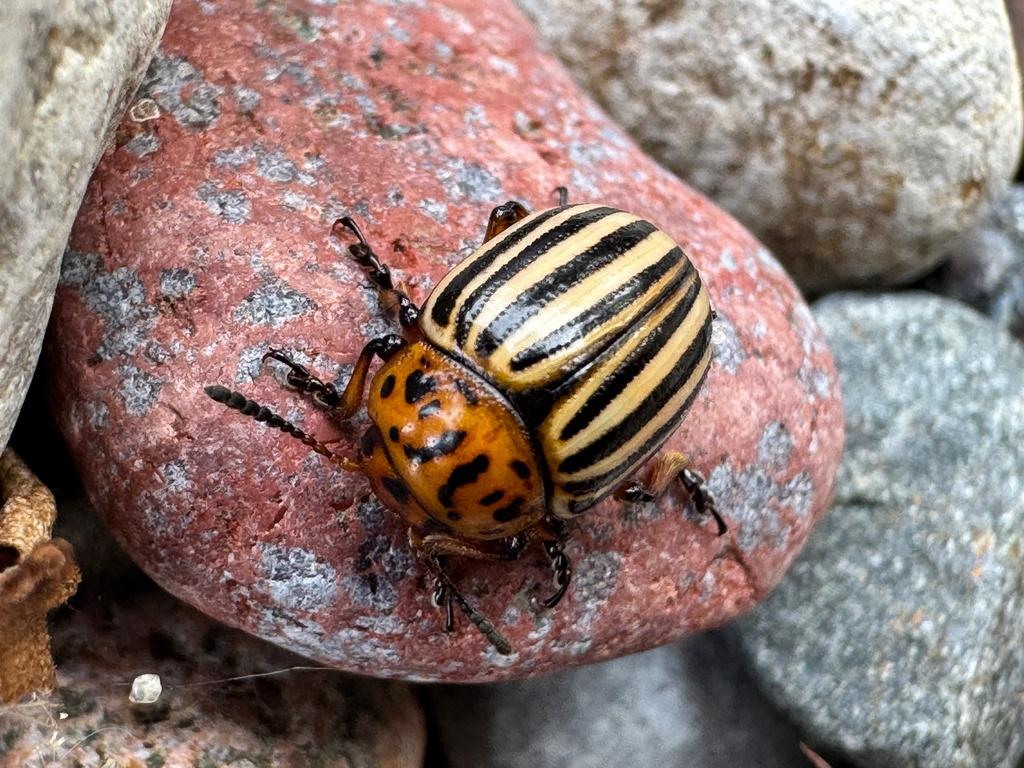potato_beetle: (182, 138, 816, 679)
